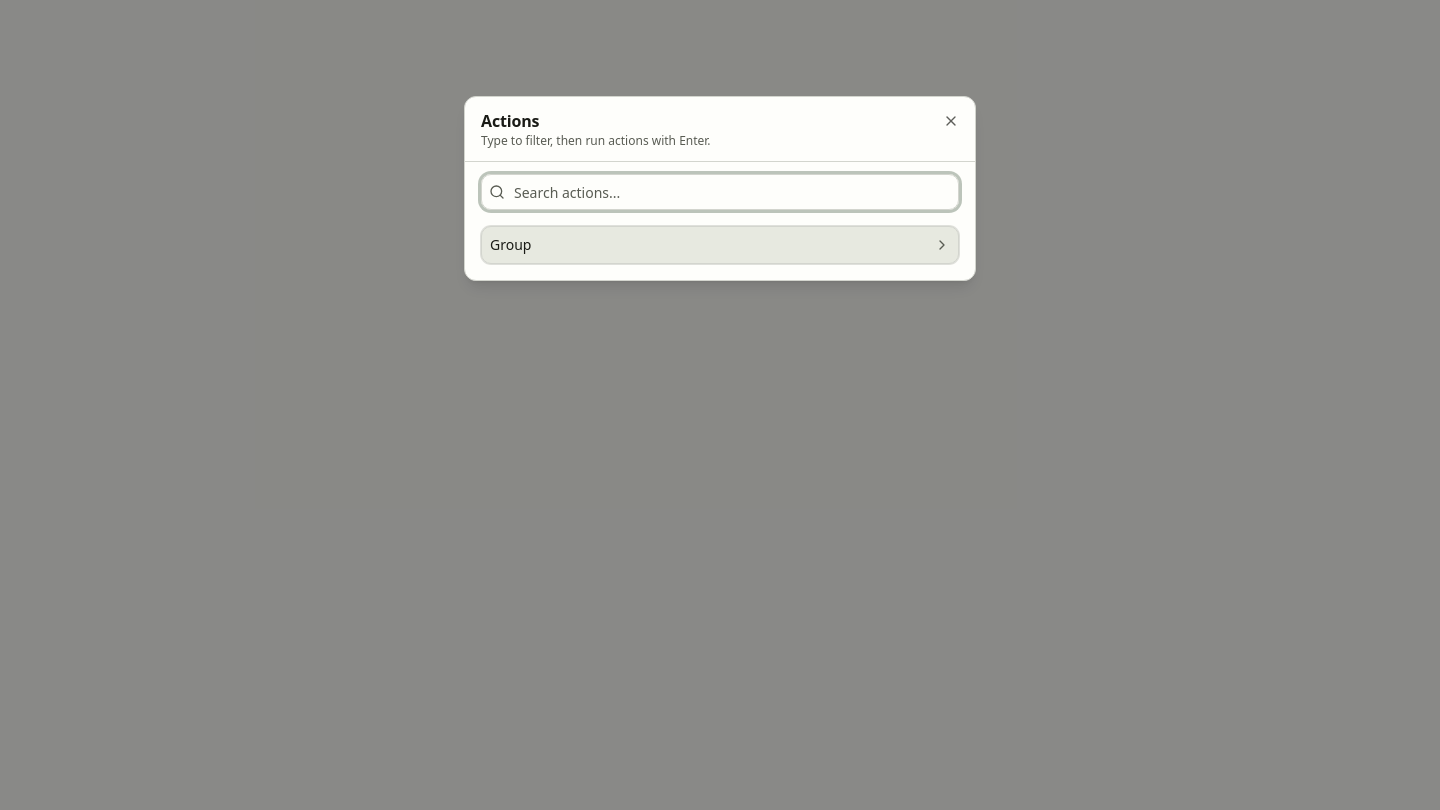
it: ActionLauncher keyboard interaction › navigates back from a nested level
Press Enter in the field with placeholder "Search actions...", box [481,174,959,210]
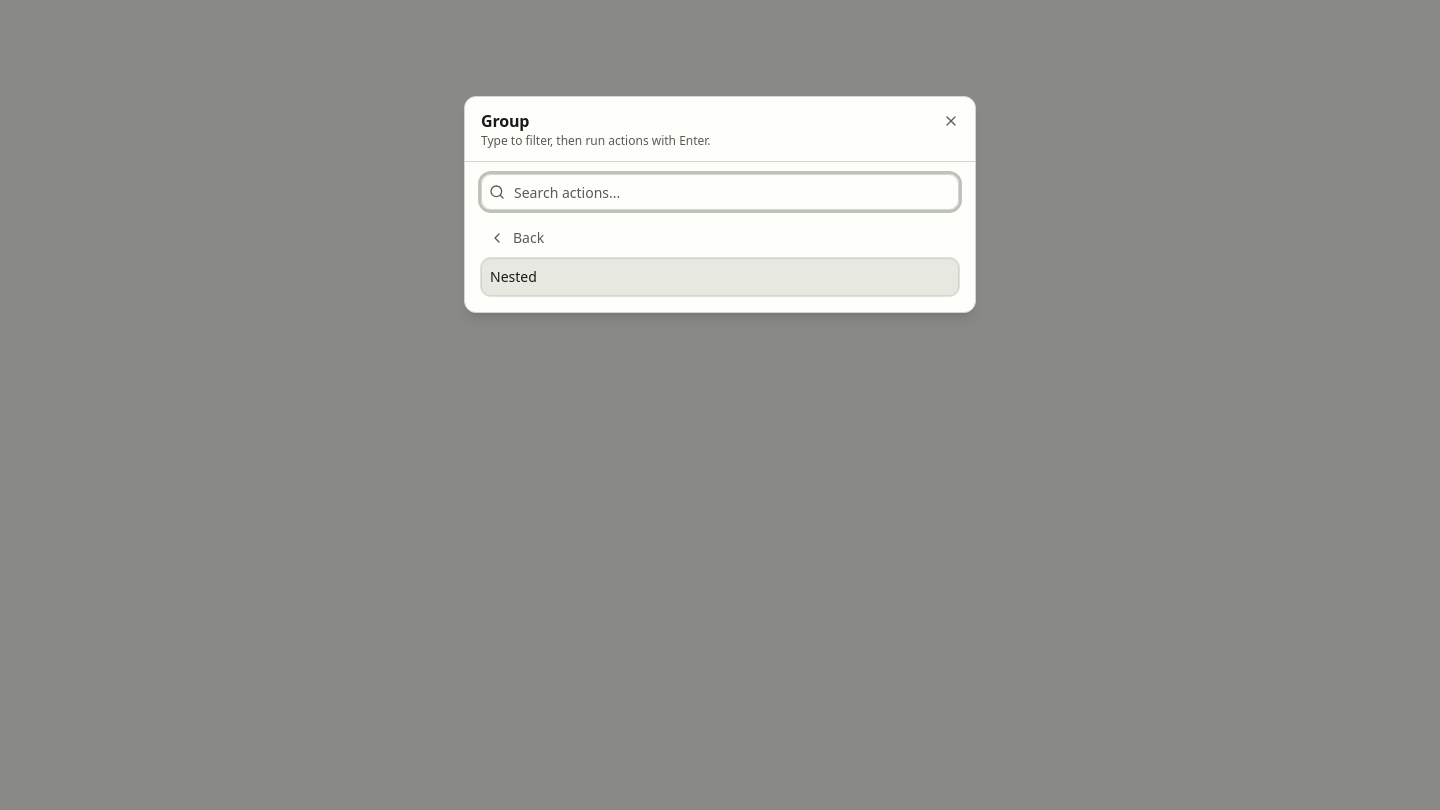
Check: the text "Nested" is shown, box [490,267,537,287]
# Click the Back button
Click the button "Back". click: [529, 238]
box: [481,222,959,254]
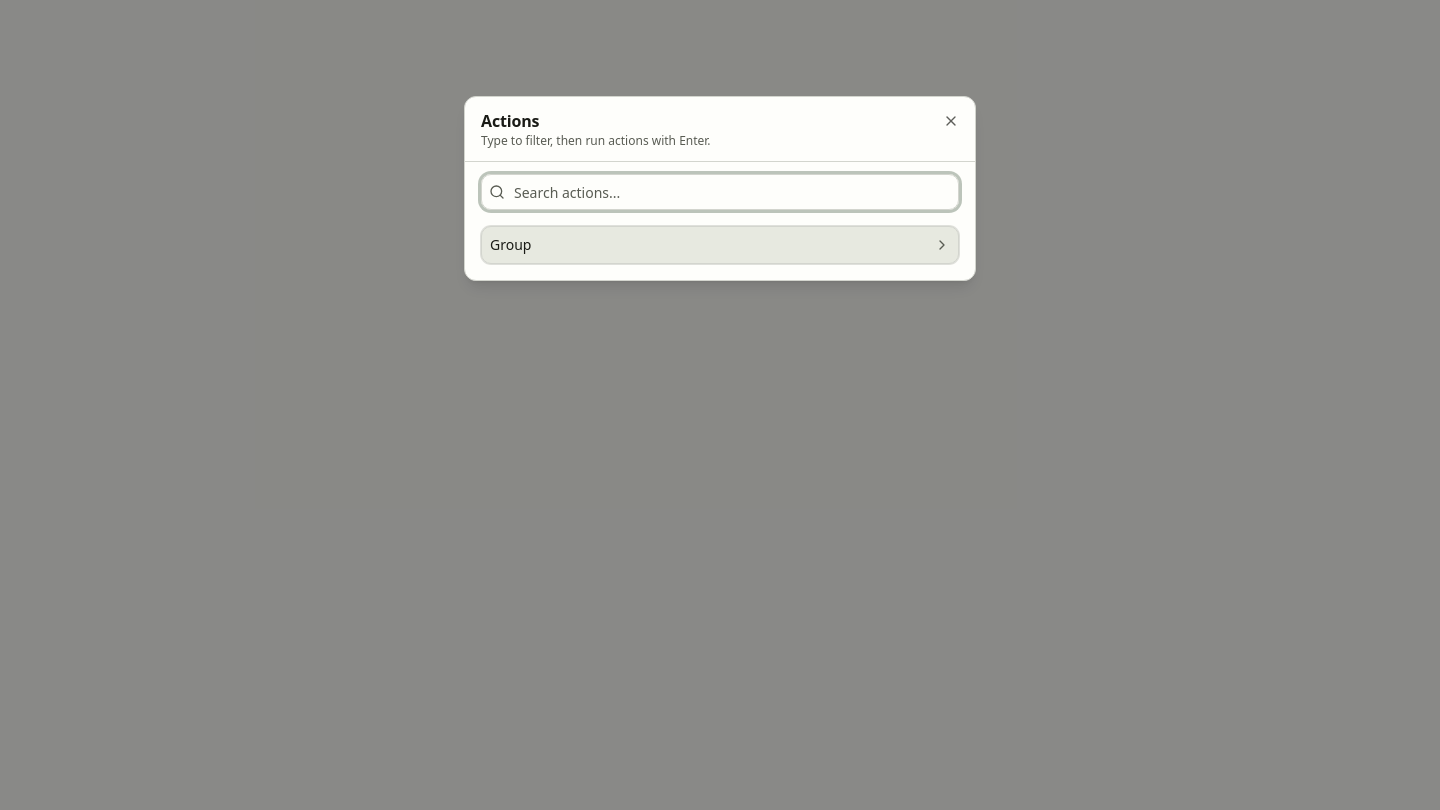
Check: the text "Group" is shown, box [490,235,531,255]
